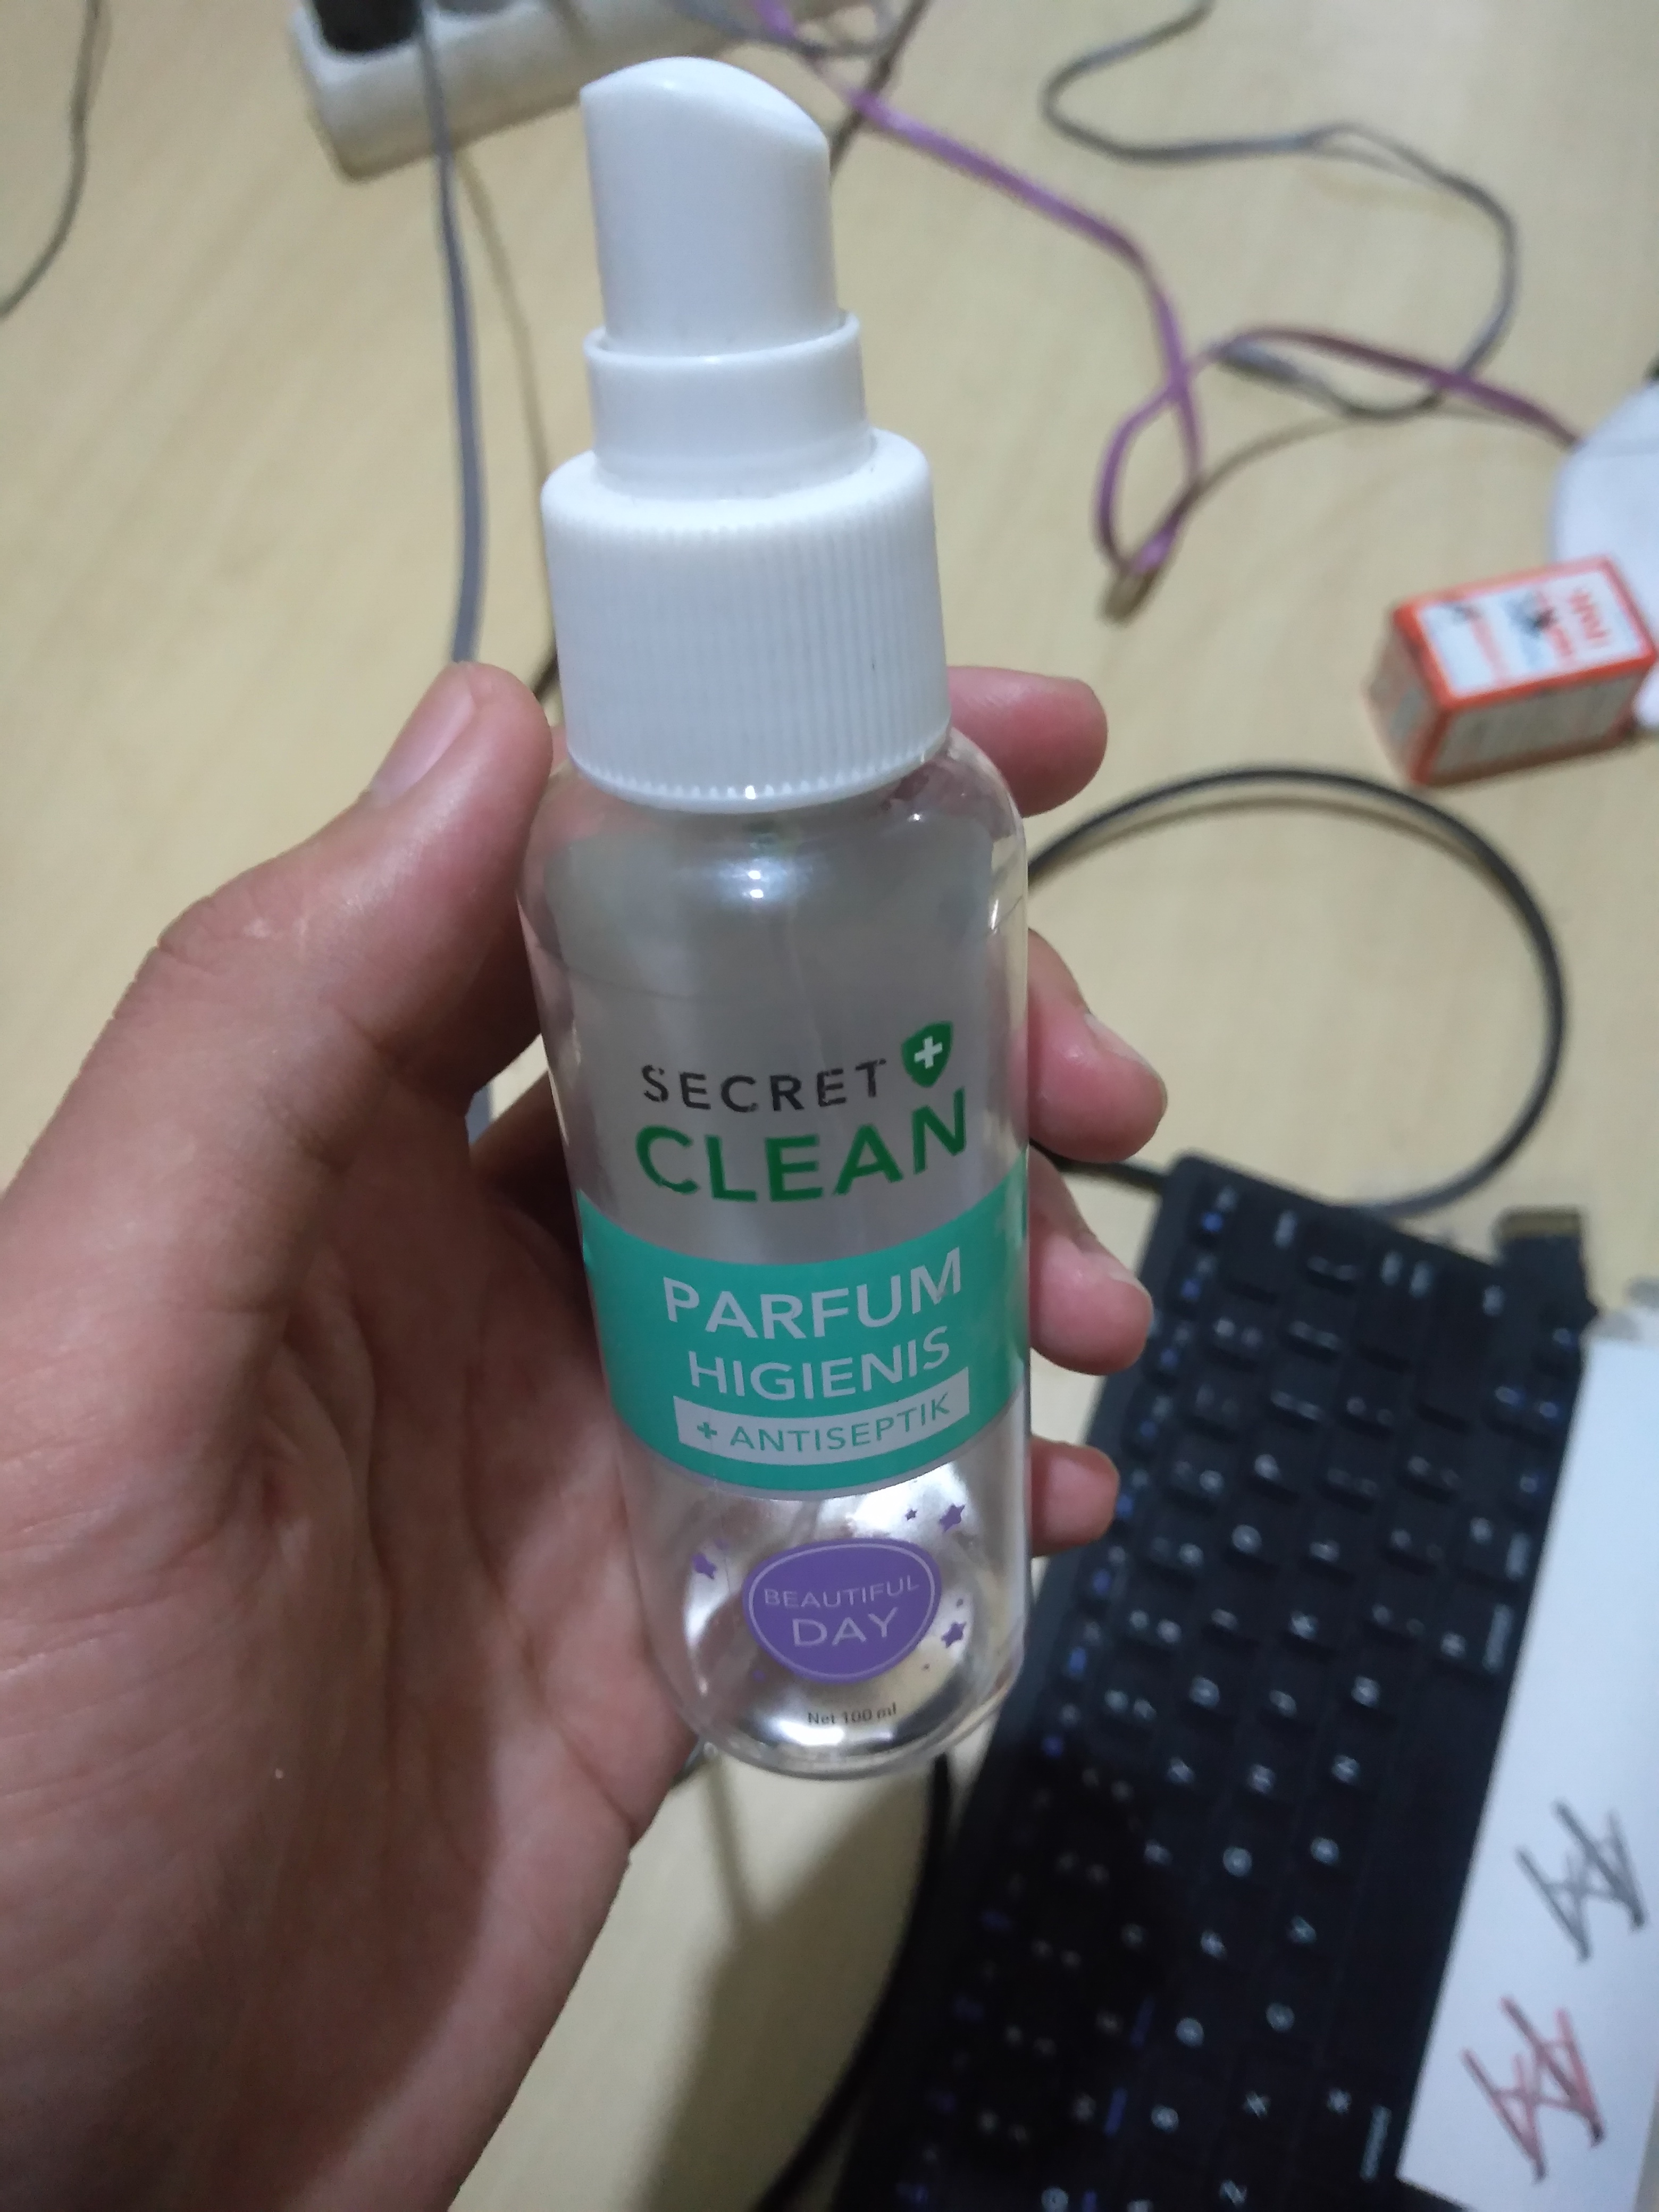hand sanitizer: (486, 9, 1084, 1848)
